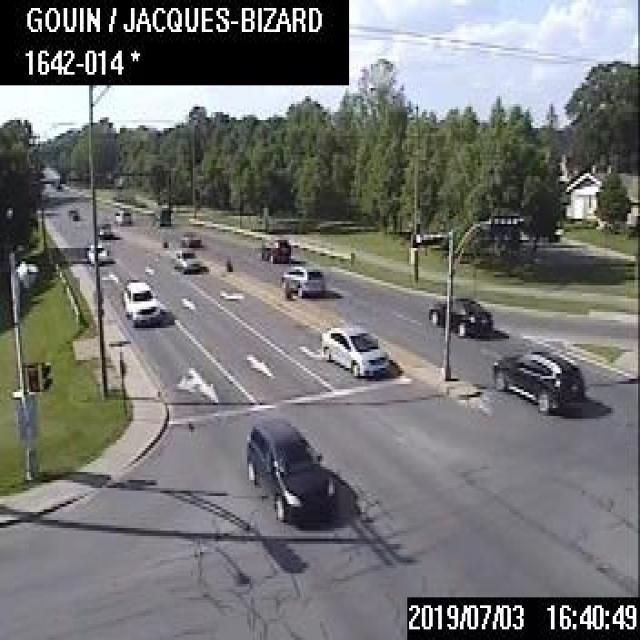vehicle: (244, 417, 336, 522), (491, 348, 581, 413), (320, 323, 388, 377), (426, 294, 491, 338), (122, 278, 159, 326), (280, 264, 324, 295), (259, 235, 288, 259), (172, 247, 200, 271), (84, 242, 108, 264), (180, 228, 200, 246), (113, 208, 130, 225), (96, 221, 111, 236), (67, 206, 78, 219)
